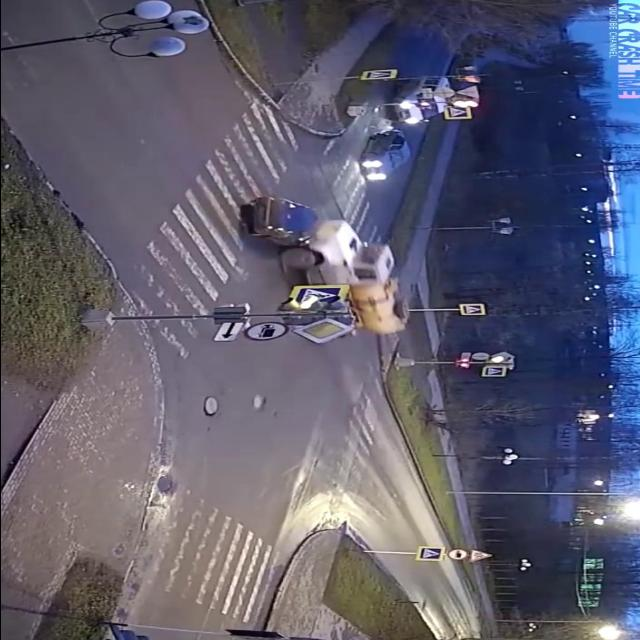accident: (222, 183, 422, 353)
